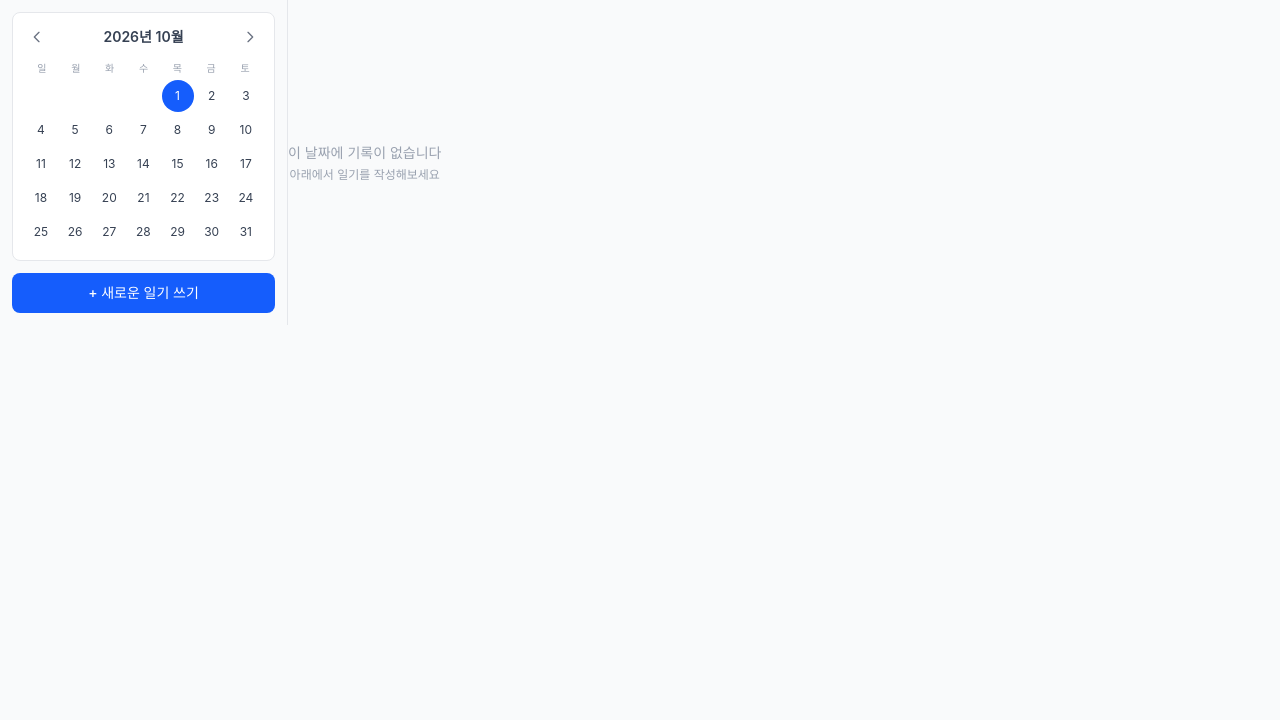
Test: DiaryTab integration › opens write modal when button is clicked
Click the button "+ 새로운 일기 쓰기" at [144, 293], box [12, 273, 275, 313]
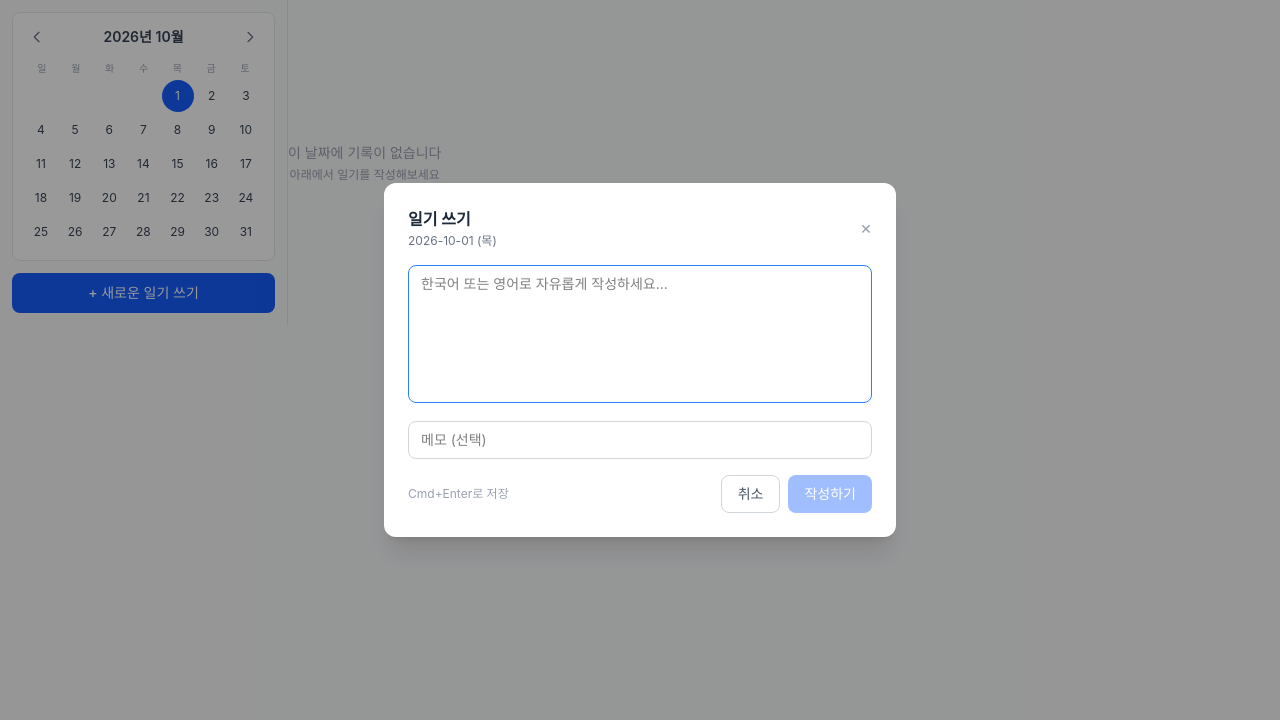
Expected: the heading "일기 쓰기" is shown, [408, 209, 471, 229]
